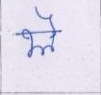au_matra: (36, 7, 62, 49)
